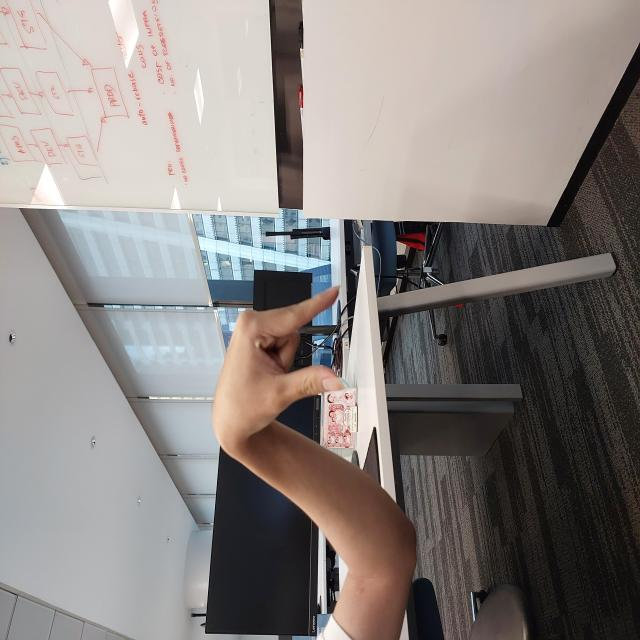Q: (190, 210, 360, 346)
